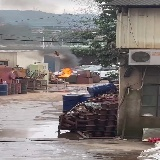fire: (58, 68, 71, 77)
